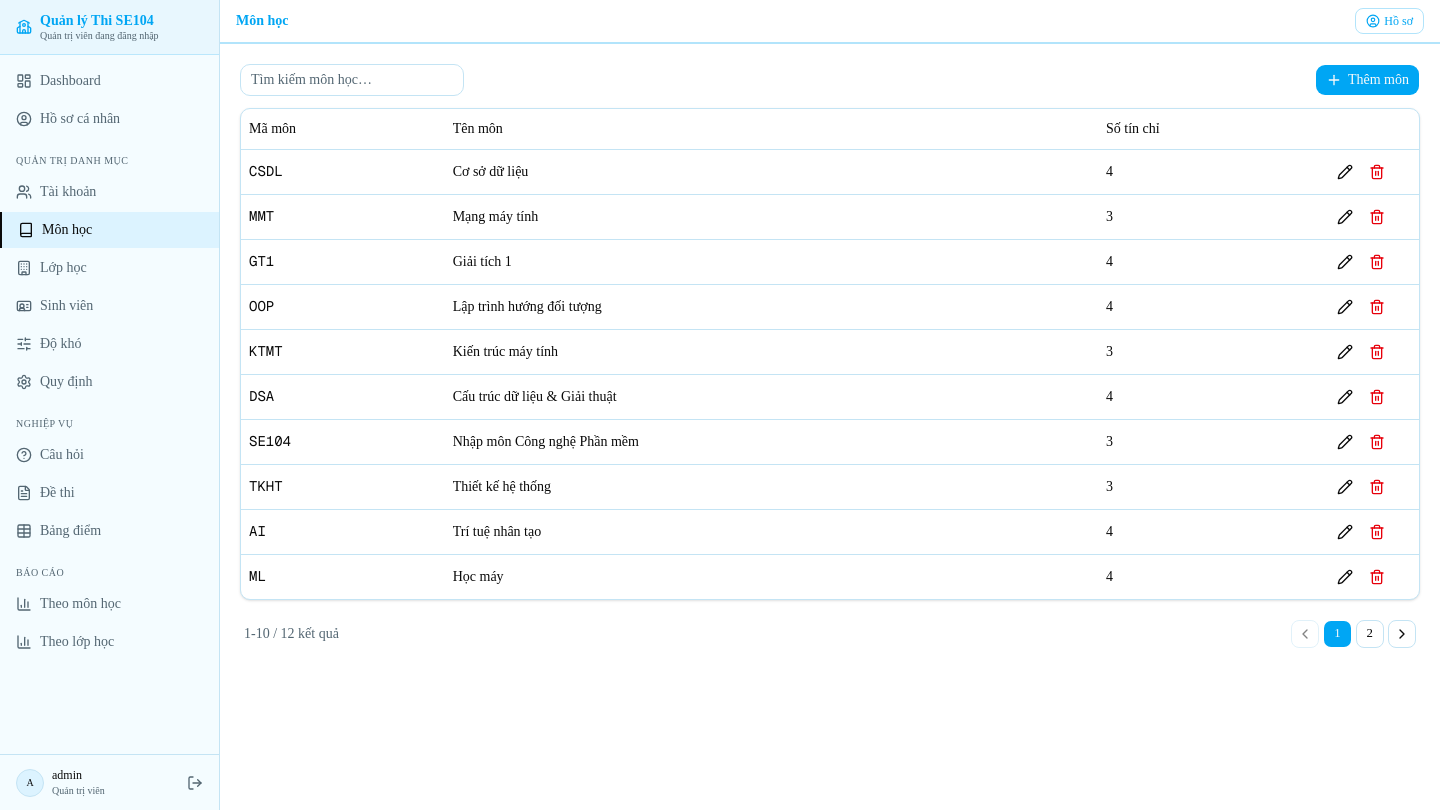
Scenario: SubjectsPage › admin can open create modal and submit a new subject
Expected: the text "CSDL" is shown, [249,162,283,180]
Click the button "Thêm môn". click: [1368, 80]
box: [1315,64,1420,96]
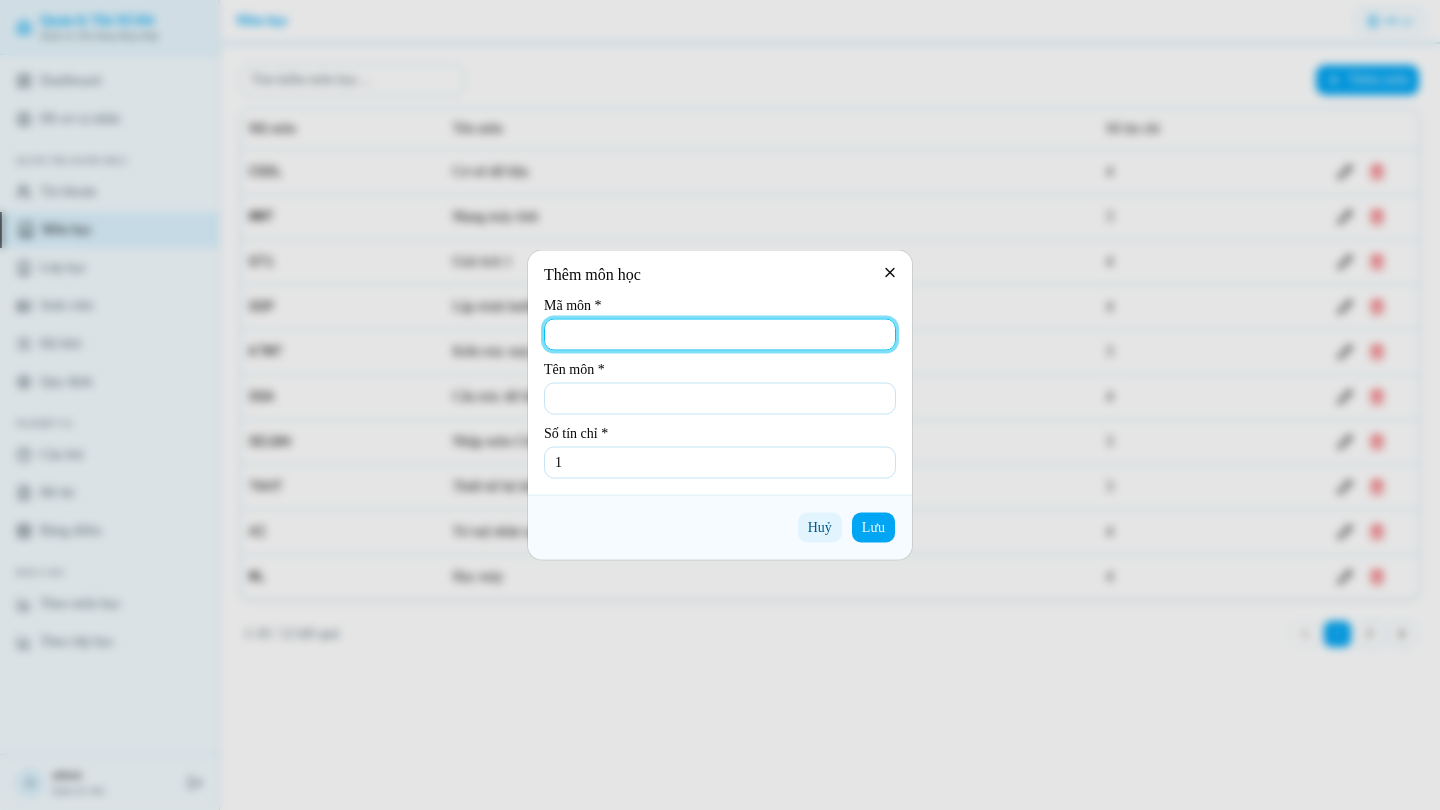
Type "TEST101" into the field labelled "Mã môn *". click: [720, 334]
box: [544,318,896,350]
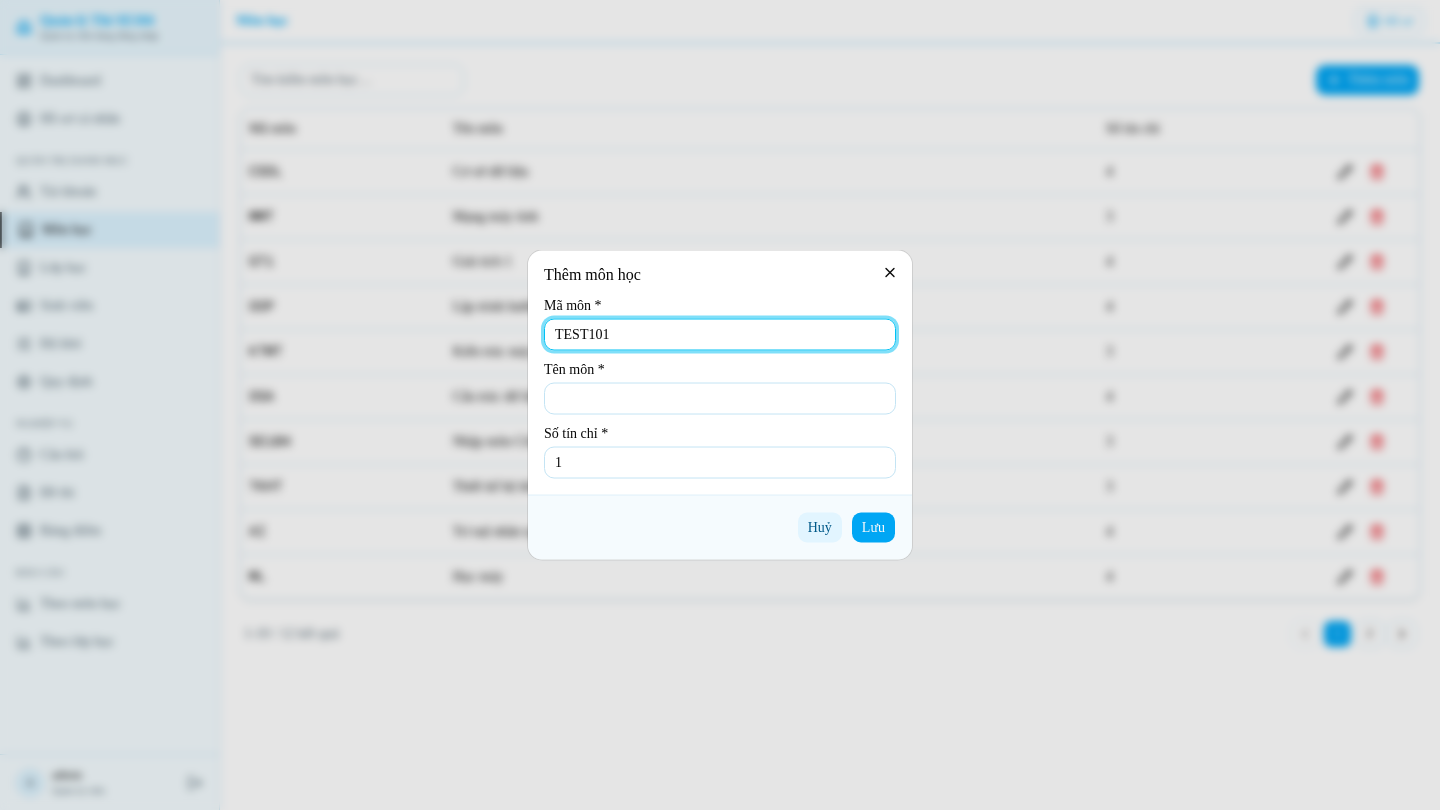
Type "Môn test" into the field labelled "Tên môn *". click: [720, 398]
box: [544,382,896,414]
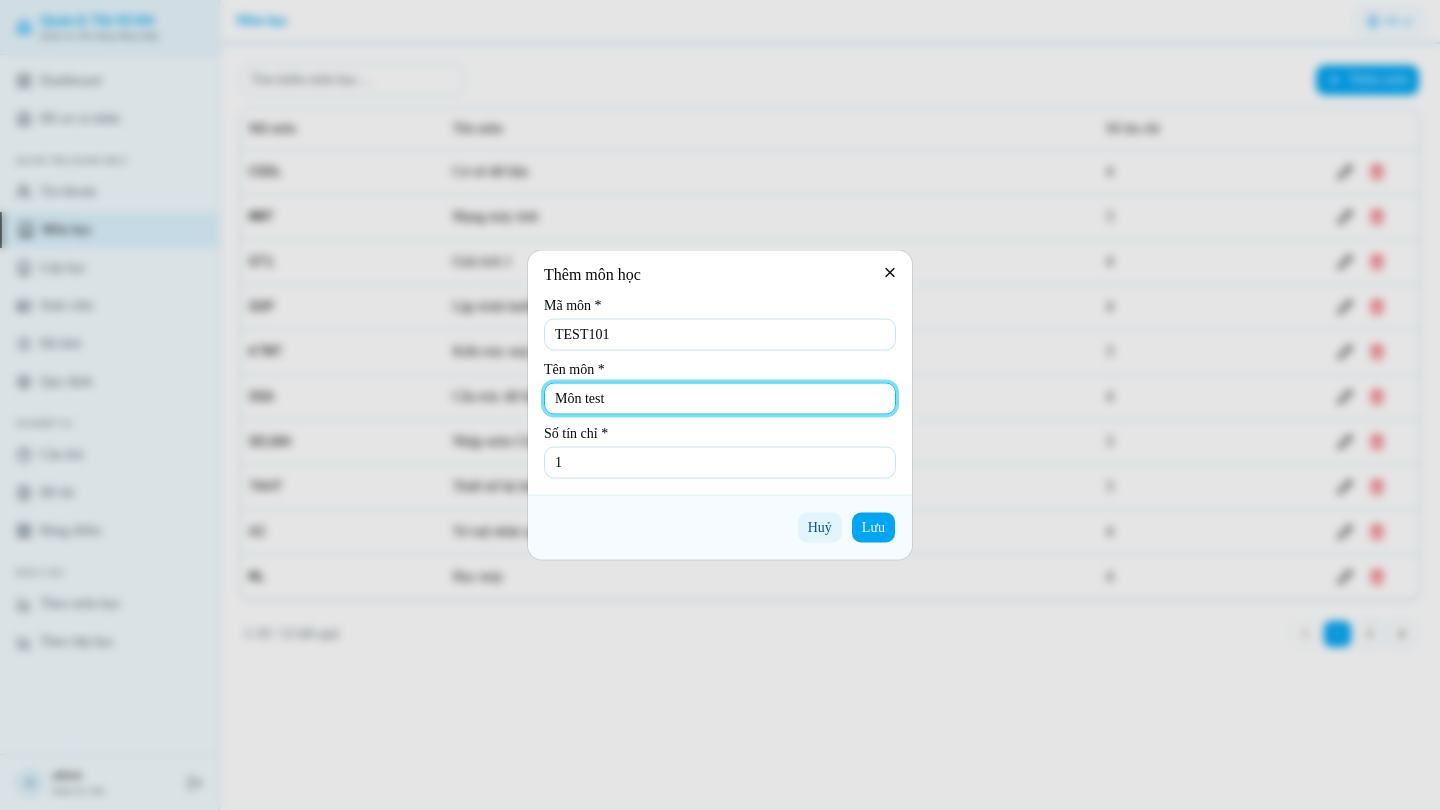
Replace the text in the number field labelled "Số tín chỉ *" with "3". click: [720, 462]
box: [544,446,896,478]
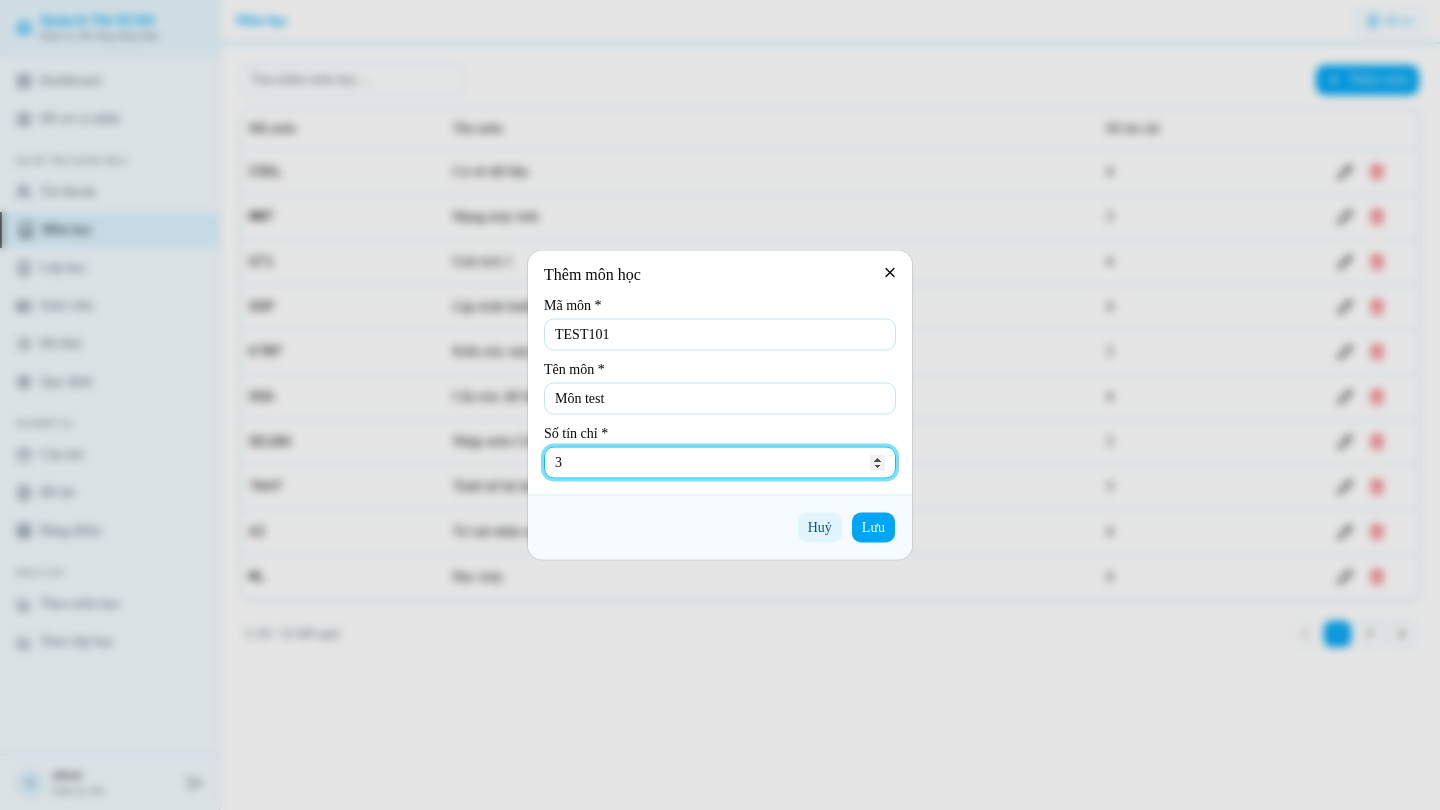
Click the button "Lưu". click: [873, 528]
box: [851,512,896,544]
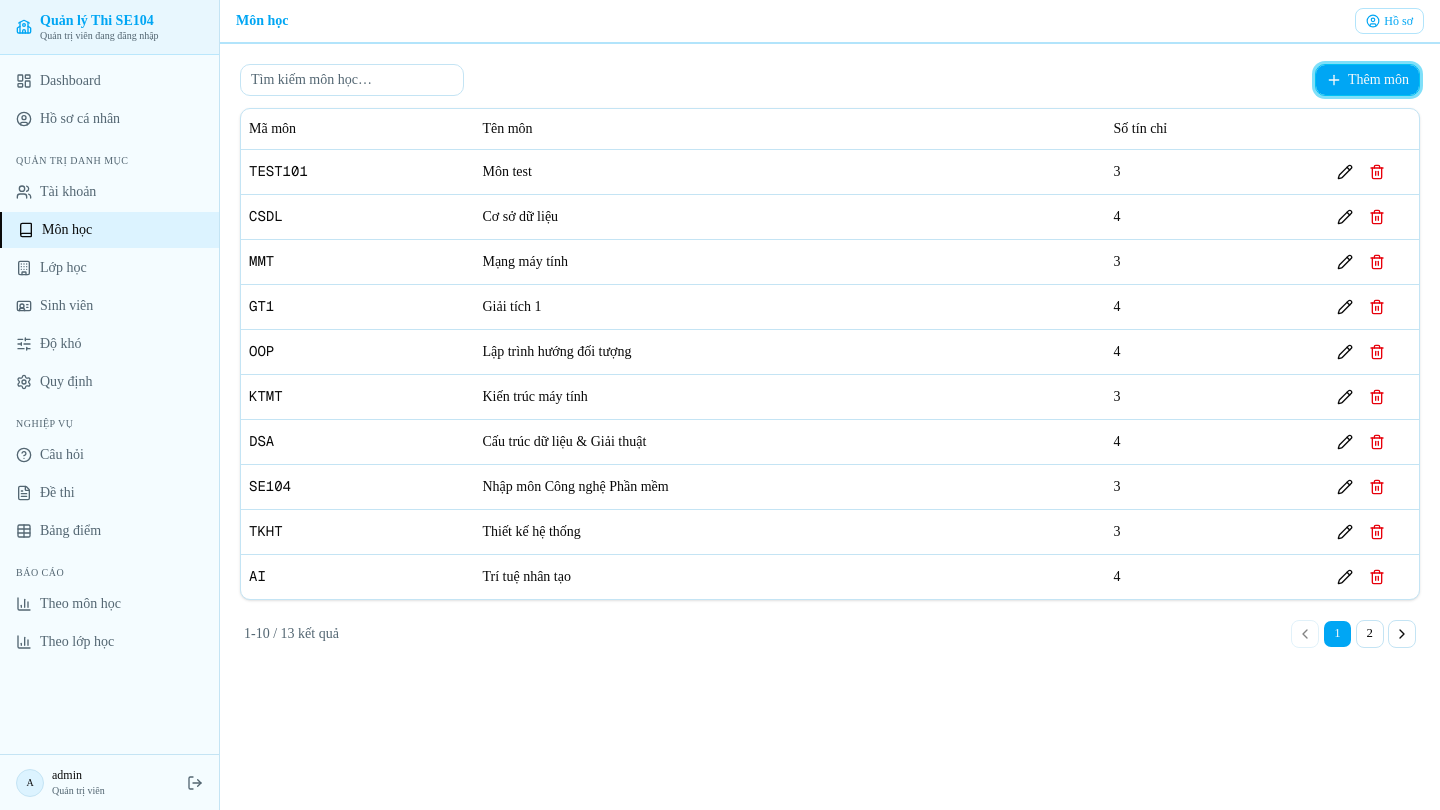
Result: the text "TEST101" is shown at [249,162,308,180]
